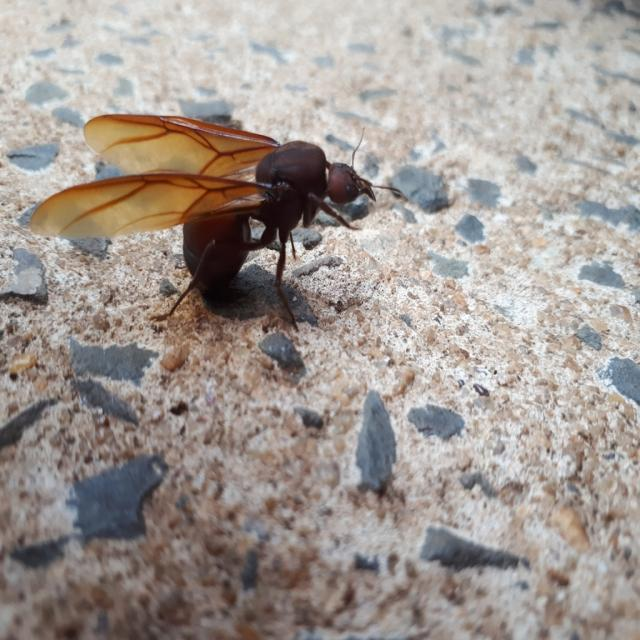Alive-Female-Alate: (28, 111, 402, 334)
